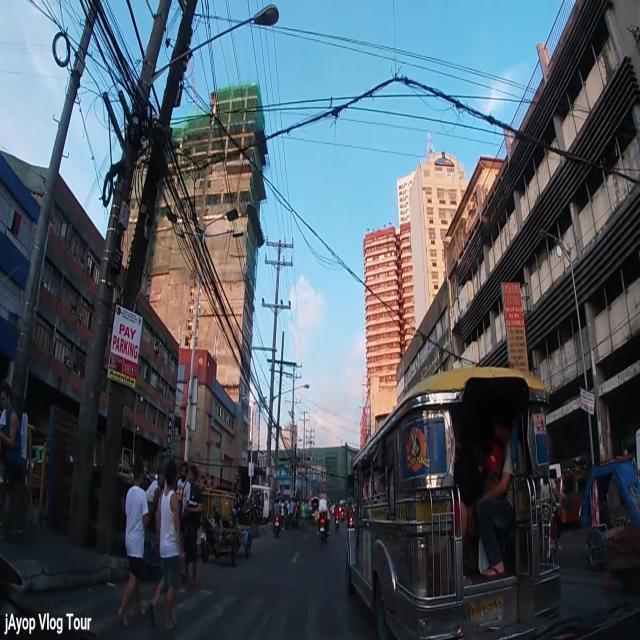jeepney: (344, 367, 561, 640)
motorcycle: (234, 490, 254, 525), (317, 498, 330, 544), (272, 510, 282, 538), (346, 508, 356, 531), (334, 507, 341, 531), (340, 507, 344, 522)
tricycle: (579, 456, 640, 570), (200, 509, 240, 567), (248, 484, 269, 522)
